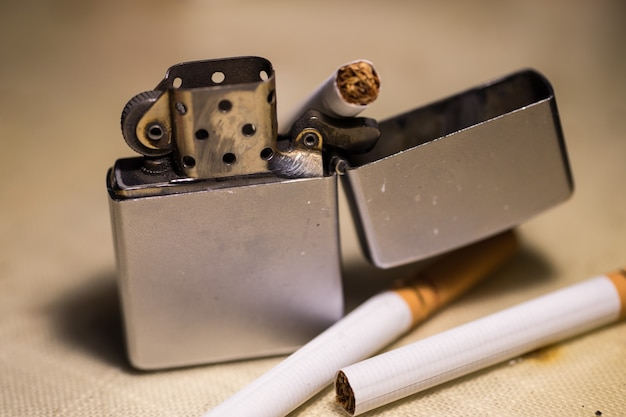cigarette: (196, 226, 523, 417), (332, 268, 626, 417), (277, 56, 381, 150)
